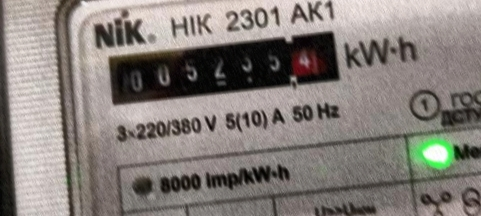0: (126, 66, 143, 93), (154, 62, 171, 87)
2: (208, 53, 226, 80)
3: (235, 47, 254, 74)
4: (292, 42, 313, 72)
5: (262, 44, 281, 73), (181, 56, 197, 82)
screen: (92, 20, 348, 114)
